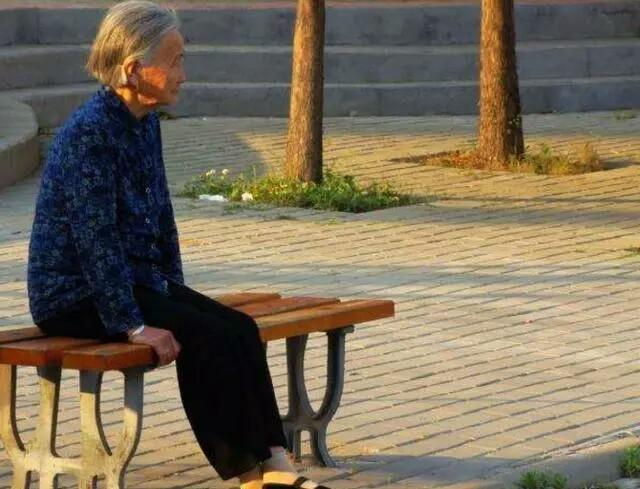sitting: (21, 6, 313, 488)
